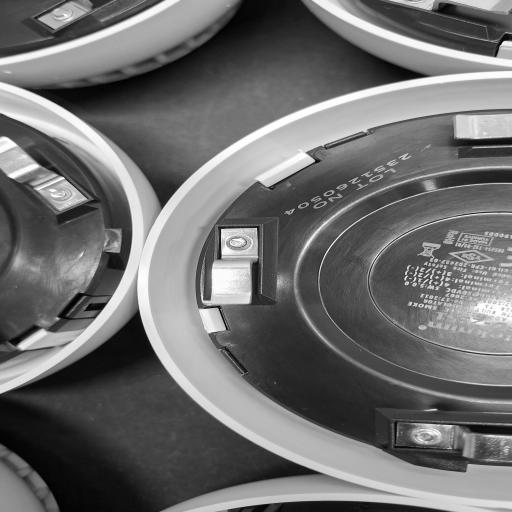yaysiz: (185, 219, 290, 324)
